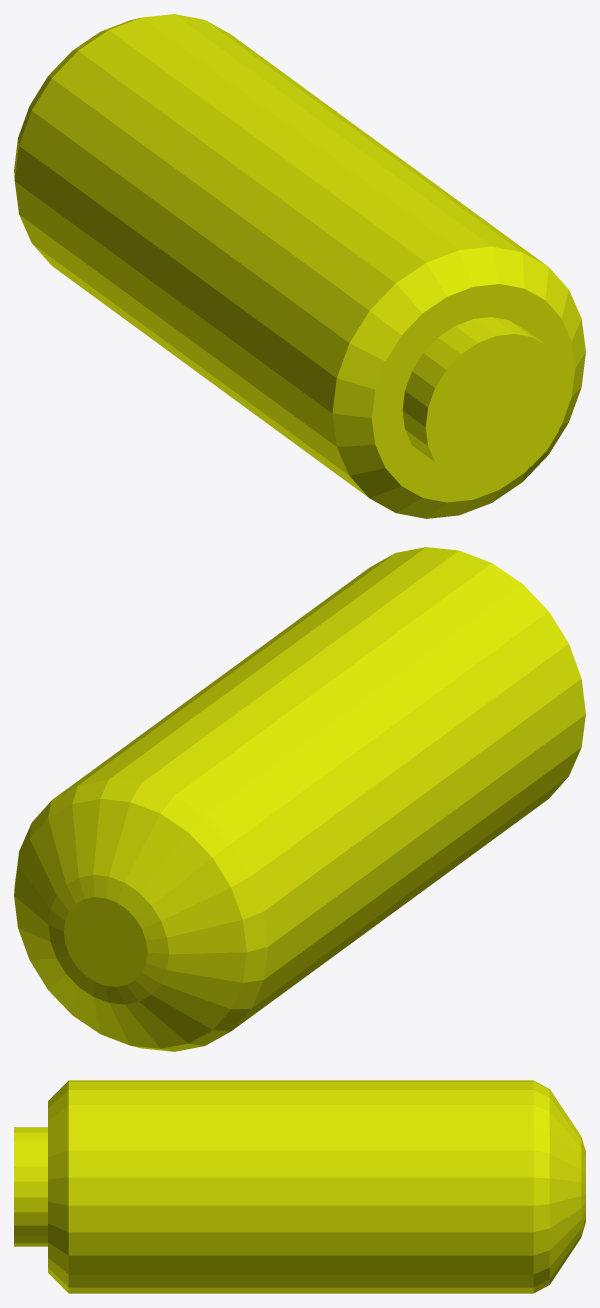
Rendered from gunTank.fbx.
3 views of the same model, one above another, from view 1: azimuth 30°, elevation 25°; view 2: azimuth 150°, elevation 25°; view 3: azimuth 270°, elevation 25° (orthographic). The views are drawn at different scales.
Visible parts, largest first — view 1: Tank; view 2: Tank; view 3: Tank.
Part boxes in pixels (x1,y1,x2,y2): Tank: [14, 14, 585, 518]; Tank: [14, 547, 585, 1051]; Tank: [14, 1080, 585, 1293].
Size of the model in its own units: 194 by 194 by 519.
